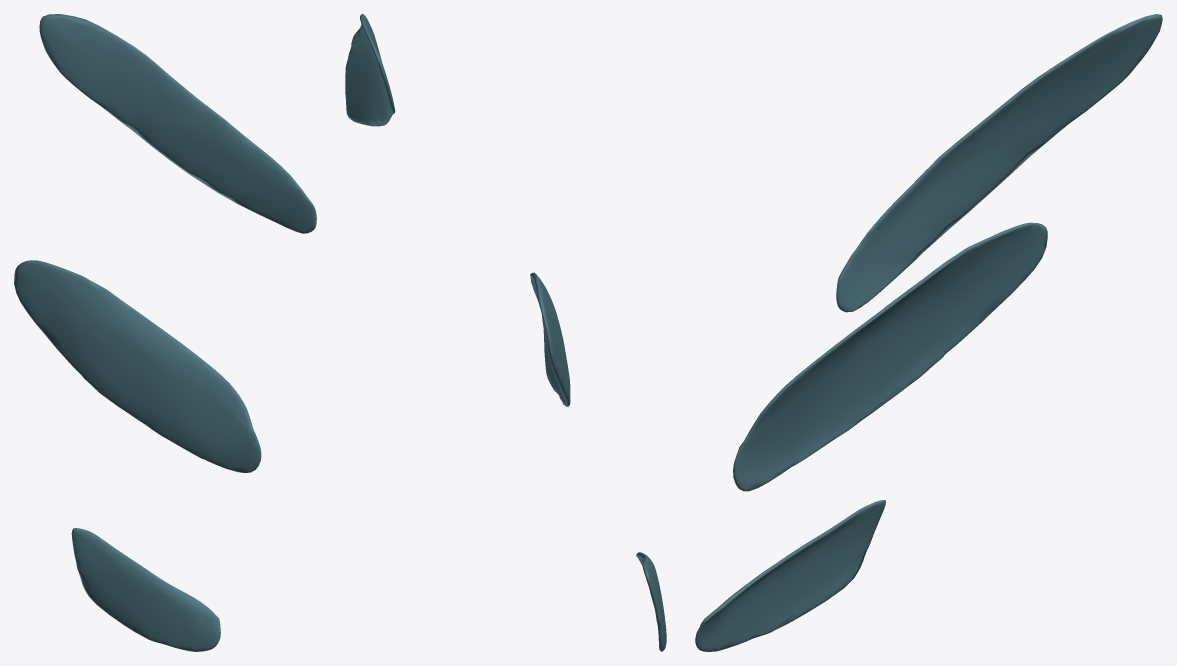
Rendered from Pectoralis_minor_muscle-Thoracic_insertions.r_Generated_Mesh_Fr.glb.
The picture shows the model from 3 angles, left to right: view 1: azimuth 30°, elevation 25°; view 2: azimuth 150°, elevation 25°; view 3: azimuth 270°, elevation 25°; orthographic projection. The views are drawn at different scales.
Parts seen in each view (by area): view 1: Pectoralis_minor_muscle-Thoracic_insertions.r_Generated_Mesh; view 2: Pectoralis_minor_muscle-Thoracic_insertions.r_Generated_Mesh; view 3: Pectoralis_minor_muscle-Thoracic_insertions.r_Generated_Mesh.
Boxes of the visible parts, bbox=[...] form: Pectoralis_minor_muscle-Thoracic_insertions.r_Generated_Mesh: bbox=[14, 14, 316, 651]; Pectoralis_minor_muscle-Thoracic_insertions.r_Generated_Mesh: bbox=[345, 14, 666, 651]; Pectoralis_minor_muscle-Thoracic_insertions.r_Generated_Mesh: bbox=[695, 14, 1162, 651].
Bounding box in the file's own units: 0.0414 × 0.0887 × 0.0574.
